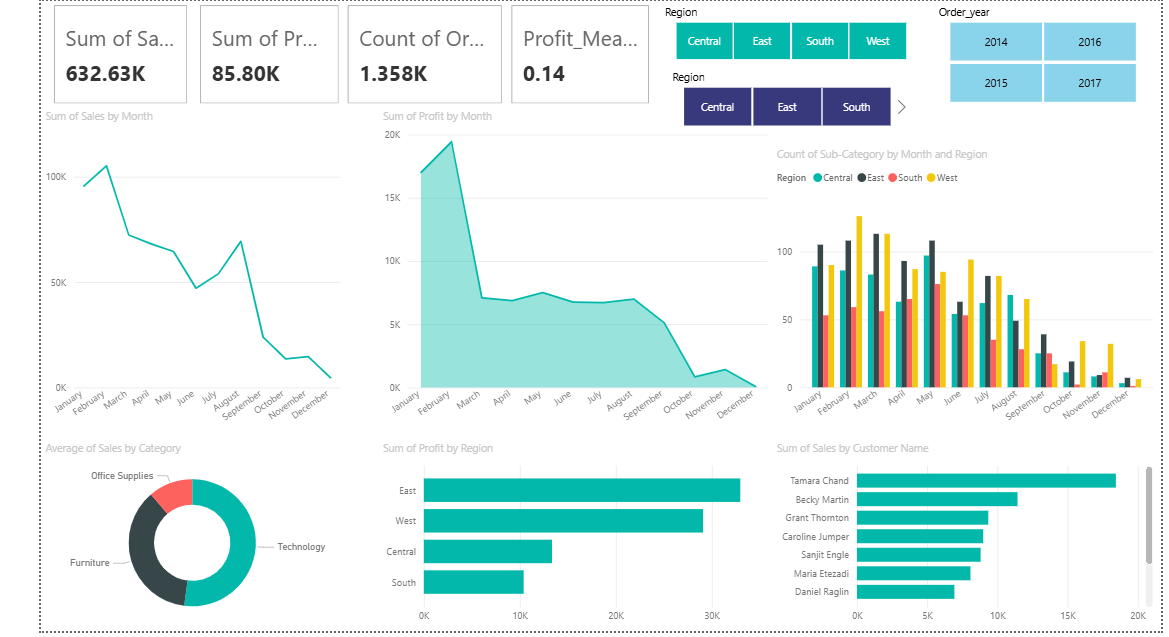

This screenshot's page, from the dashboard's own definition file:
{"tool":"powerbi","page":{"name":"Page 1","canvas":[1280,720],"ordinal":0},"visuals":[{"type":"cardVisual","fields":{"Data":["Sum(Superstore_sales_Analysis.Sales)"]},"box":[10,0,162.5,122.5],"z":0},{"type":"cardVisual","fields":{"Data":["Sum(Superstore_sales_Analysis.Profit)"]},"box":[177.5,0,168.8,122.5],"z":1000},{"type":"cardVisual","fields":{"Data":["Count(Superstore_sales_Analysis.Order ID)"]},"box":[346.2,0,186.2,122.5],"z":2000},{"type":"cardVisual","fields":{"Data":["Superstore_sales_Analysis.Profit_Measure"]},"box":[532.5,0,167.5,122.5],"z":3000},{"type":"lineChart","fields":{"Category":["Superstore_sales_Analysis.Order Date.Variation.Date Hierarchy.Month"],"Y":["Sum(Superstore_sales_Analysis.Sales)"]},"box":[0,122.5,346.2,370],"z":4000},{"type":"areaChart","fields":{"Category":["Superstore_sales_Analysis.Order Date.Variation.Date Hierarchy.Month"],"Y":["Sum(Superstore_sales_Analysis.Profit)"]},"box":[385,122.5,450,370],"z":5000},{"type":"clusteredColumnChart","fields":{"Category":["Superstore_sales_Analysis.Order Date.Variation.Date Hierarchy.Month"],"Series":["Superstore_sales_Analysis.Region"],"Y":["CountNonNull(Superstore_sales_Analysis.Sub-Category)"]},"box":[835,167.5,440,325],"z":6000},{"type":"donutChart","fields":{"Category":["Superstore_sales_Analysis.Category"],"Y":["Avg(Superstore_sales_Analysis.Sales)"]},"box":[0,503,346,217],"z":7000},{"type":"clusteredBarChart","fields":{"Category":["Superstore_sales_Analysis.Region"],"Y":["Sum(Superstore_sales_Analysis.Profit)"]},"box":[385,503,450,217],"z":8000},{"type":"clusteredBarChart","fields":{"Category":["Superstore_sales_Analysis.Customer Name"],"Y":["Sum(Superstore_sales_Analysis.Sales)"]},"box":[835,503,440,217],"z":9000},{"type":"slicer","fields":{"Values":["Superstore_sales_Analysis.Region"]},"box":[700,0,312.5,73.8],"z":10000},{"type":"slicer","fields":{"Values":["Superstore_sales_Analysis.Region"]},"box":[708.8,73.8,286.2,75],"z":10001},{"type":"slicer","fields":{"Values":["Superstore_sales_Analysis.Order_year"]},"box":[1012.5,0,262.5,122.5],"z":10002}]}

Visuals, with their boxes on the page's 1280x720 design canvas (x1, y1, x2, y2). These are canvas units, not pixel positions in the 1169x637 screenshot, which may show the page scaled, cropped or inside an application window:
cardVisual - Sum(Superstore_sales_Analysis.Sales): [10,0,172,122]
cardVisual - Sum(Superstore_sales_Analysis.Profit): [178,0,346,122]
cardVisual - Count(Superstore_sales_Analysis.Order ID): [346,0,532,122]
cardVisual - Superstore_sales_Analysis.Profit_Measure: [532,0,700,122]
lineChart - Superstore_sales_Analysis.Order Date.Variation.Date Hierarchy.Month x Sum(Superstore_sales_Analysis.Sales): [0,122,346,492]
areaChart - Superstore_sales_Analysis.Order Date.Variation.Date Hierarchy.Month x Sum(Superstore_sales_Analysis.Profit): [385,122,835,492]
clusteredColumnChart - Superstore_sales_Analysis.Order Date.Variation.Date Hierarchy.Month x Superstore_sales_Analysis.Region: [835,168,1275,492]
donutChart - Superstore_sales_Analysis.Category x Avg(Superstore_sales_Analysis.Sales): [0,503,346,720]
clusteredBarChart - Superstore_sales_Analysis.Region x Sum(Superstore_sales_Analysis.Profit): [385,503,835,720]
clusteredBarChart - Superstore_sales_Analysis.Customer Name x Sum(Superstore_sales_Analysis.Sales): [835,503,1275,720]
slicer - Superstore_sales_Analysis.Region: [700,0,1012,74]
slicer - Superstore_sales_Analysis.Region: [709,74,995,149]
slicer - Superstore_sales_Analysis.Order_year: [1012,0,1275,122]
